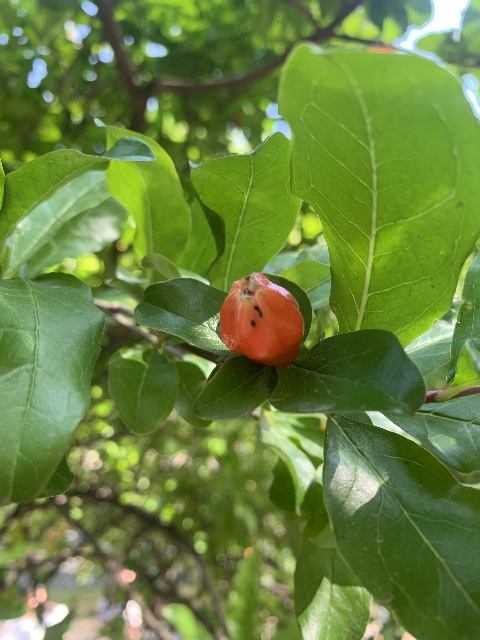bud: (219, 273, 303, 369)
